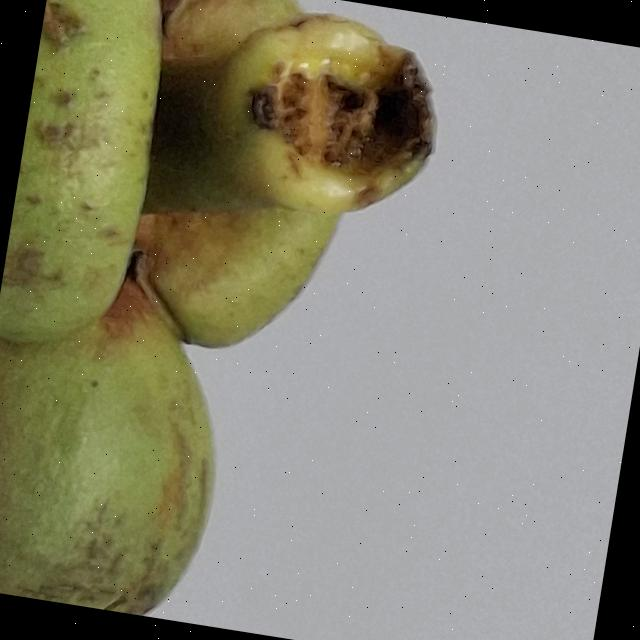mangosteen: (0, 0, 518, 640)
